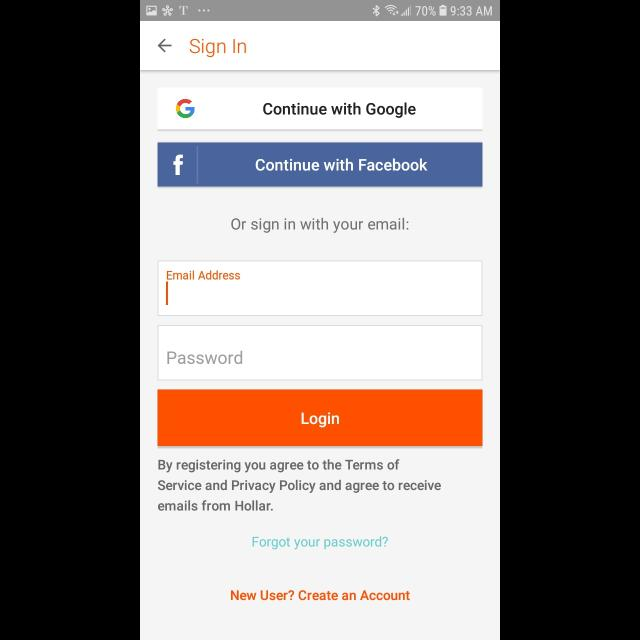icon: (158, 39, 172, 53)
input: (158, 326, 482, 380), (158, 262, 482, 316)
text: (158, 459, 442, 511), (232, 218, 408, 234), (252, 536, 388, 550), (230, 590, 410, 600), (168, 350, 242, 366), (190, 38, 246, 58), (168, 270, 240, 280)
textbutton: (158, 390, 482, 446), (158, 142, 482, 188), (158, 88, 482, 130)
uppertaskbar: (140, 1, 500, 22)
